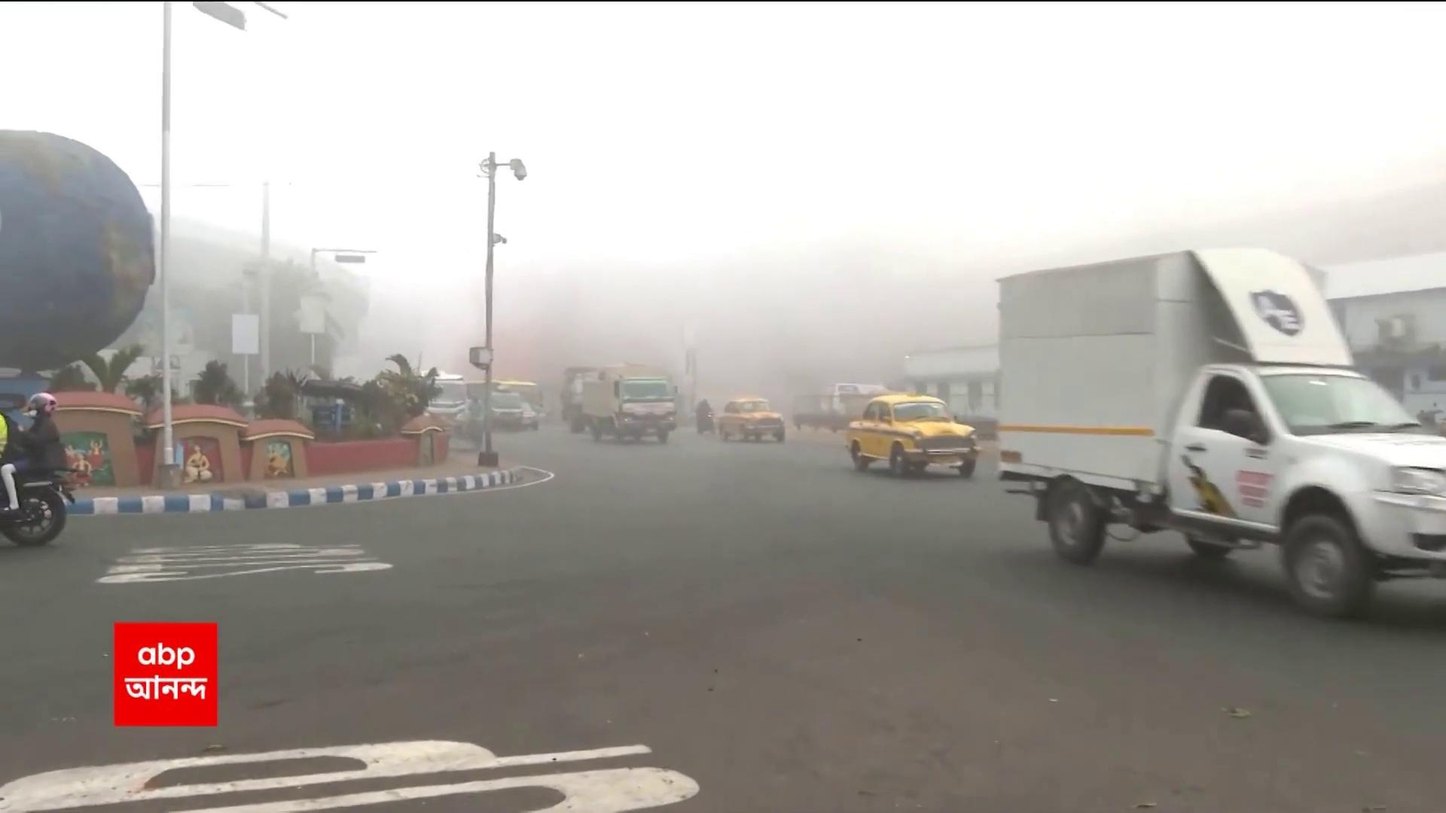Car: (844, 392, 978, 480), (716, 396, 788, 444)
Truck: (983, 236, 1446, 617), (578, 365, 678, 444)
